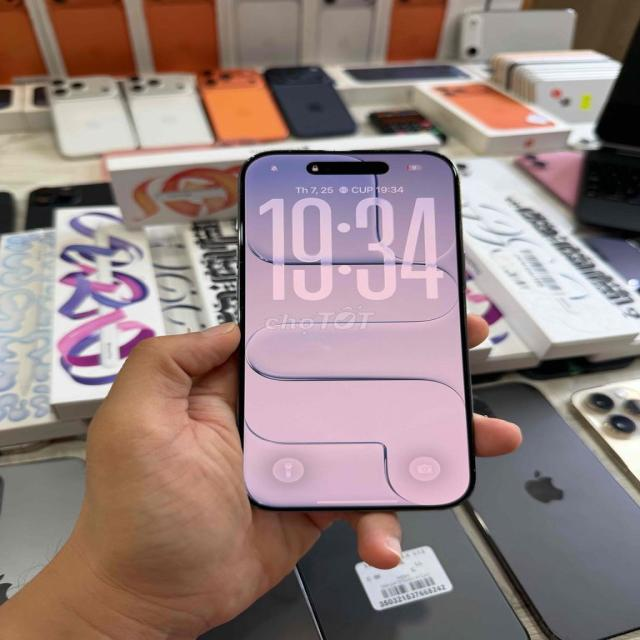gen_17: (230, 138, 482, 516)
